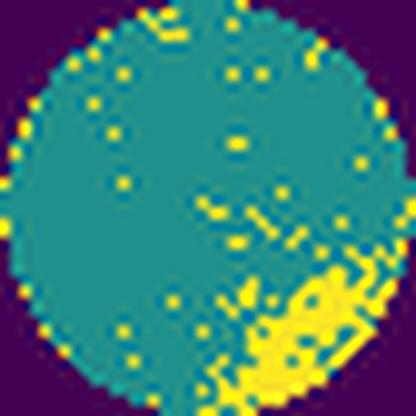Edge-Loc: (210, 240, 415, 416)
